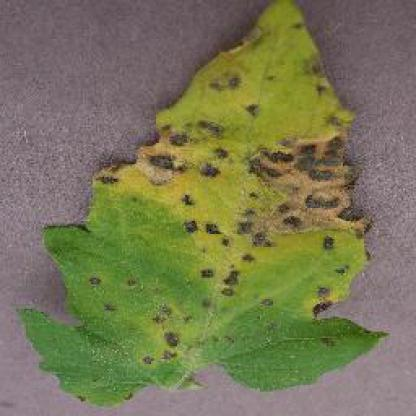bad leaf: (106, 8, 372, 337)
